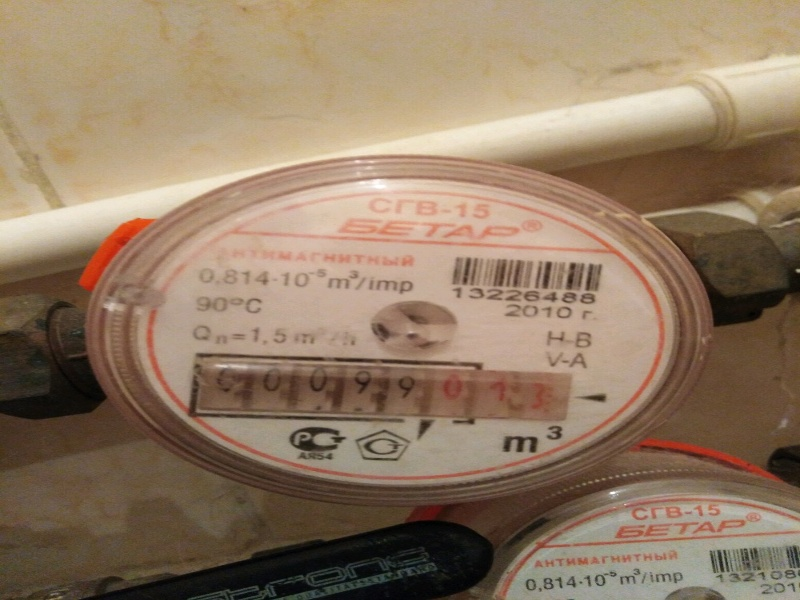meter: (205, 357, 547, 422)
